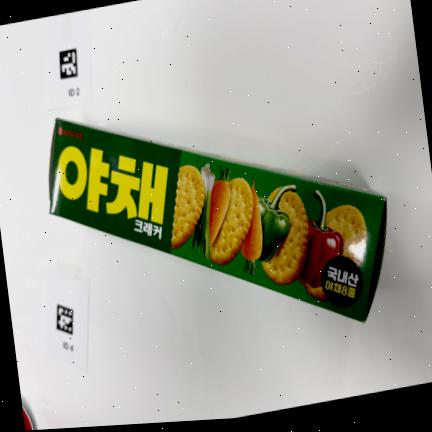cracker_vege: (48, 118, 386, 321)
